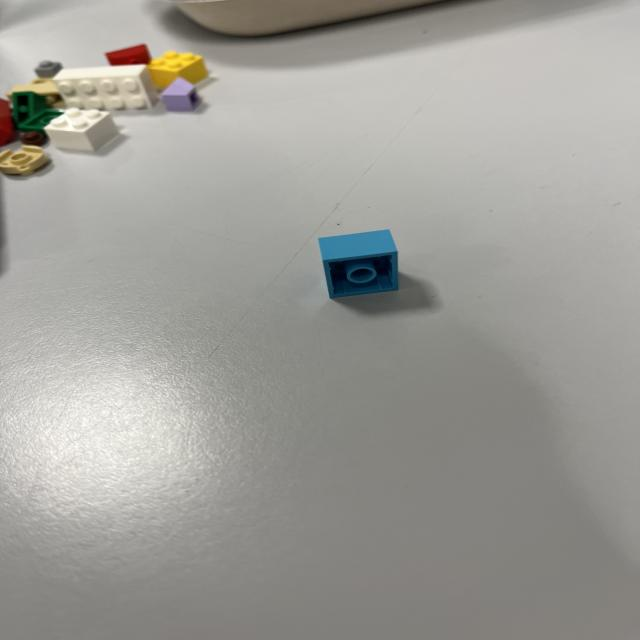C2x2x1: (316, 228, 399, 299)
